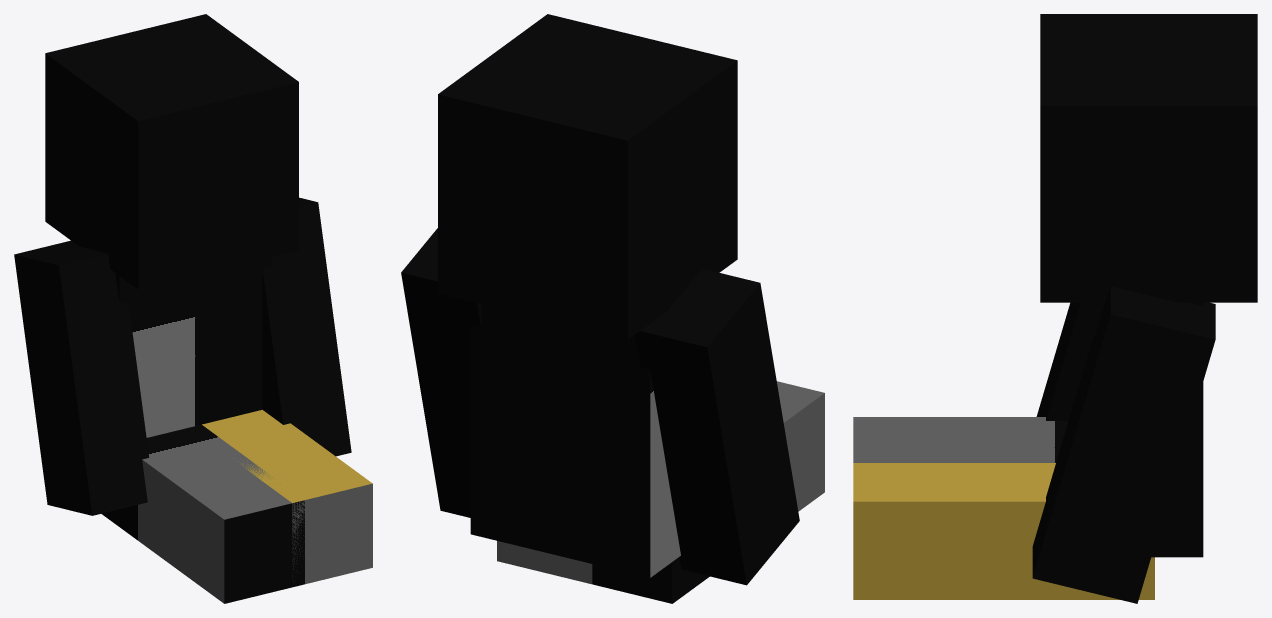
Rendered from npcalex.obj.
3 views of the same model, side by side, from view 1: azimuth 30°, elevation 25°; view 2: azimuth 150°, elevation 25°; view 3: azimuth 270°, elevation 25° (orthographic). The views are drawn at different scales.
Visible parts, largest first — view 1: Alex_translucent; view 2: Alex_translucent; view 3: Alex_translucent.
Boxes of the visible parts, x1,y1,x2,y2 form: Alex_translucent: (14, 14, 372, 603); Alex_translucent: (401, 14, 824, 603); Alex_translucent: (853, 14, 1257, 603).
Bounding box in the file's own units: 0.9062 × 1.42 × 1.05.
